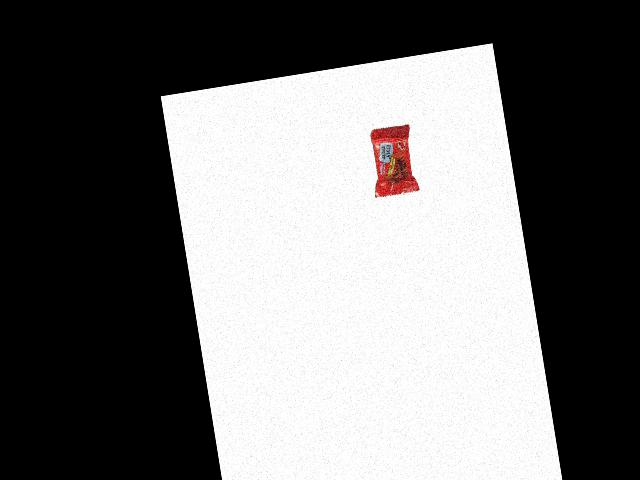chocolate: (359, 117, 419, 199)
